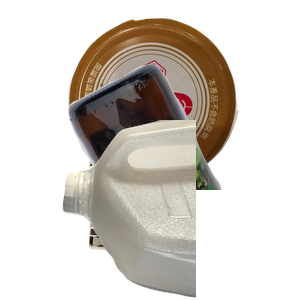glass: (66, 61, 300, 241)
metal: (66, 15, 297, 193)
plastic: (60, 120, 300, 300)
trash: (86, 158, 242, 300)
